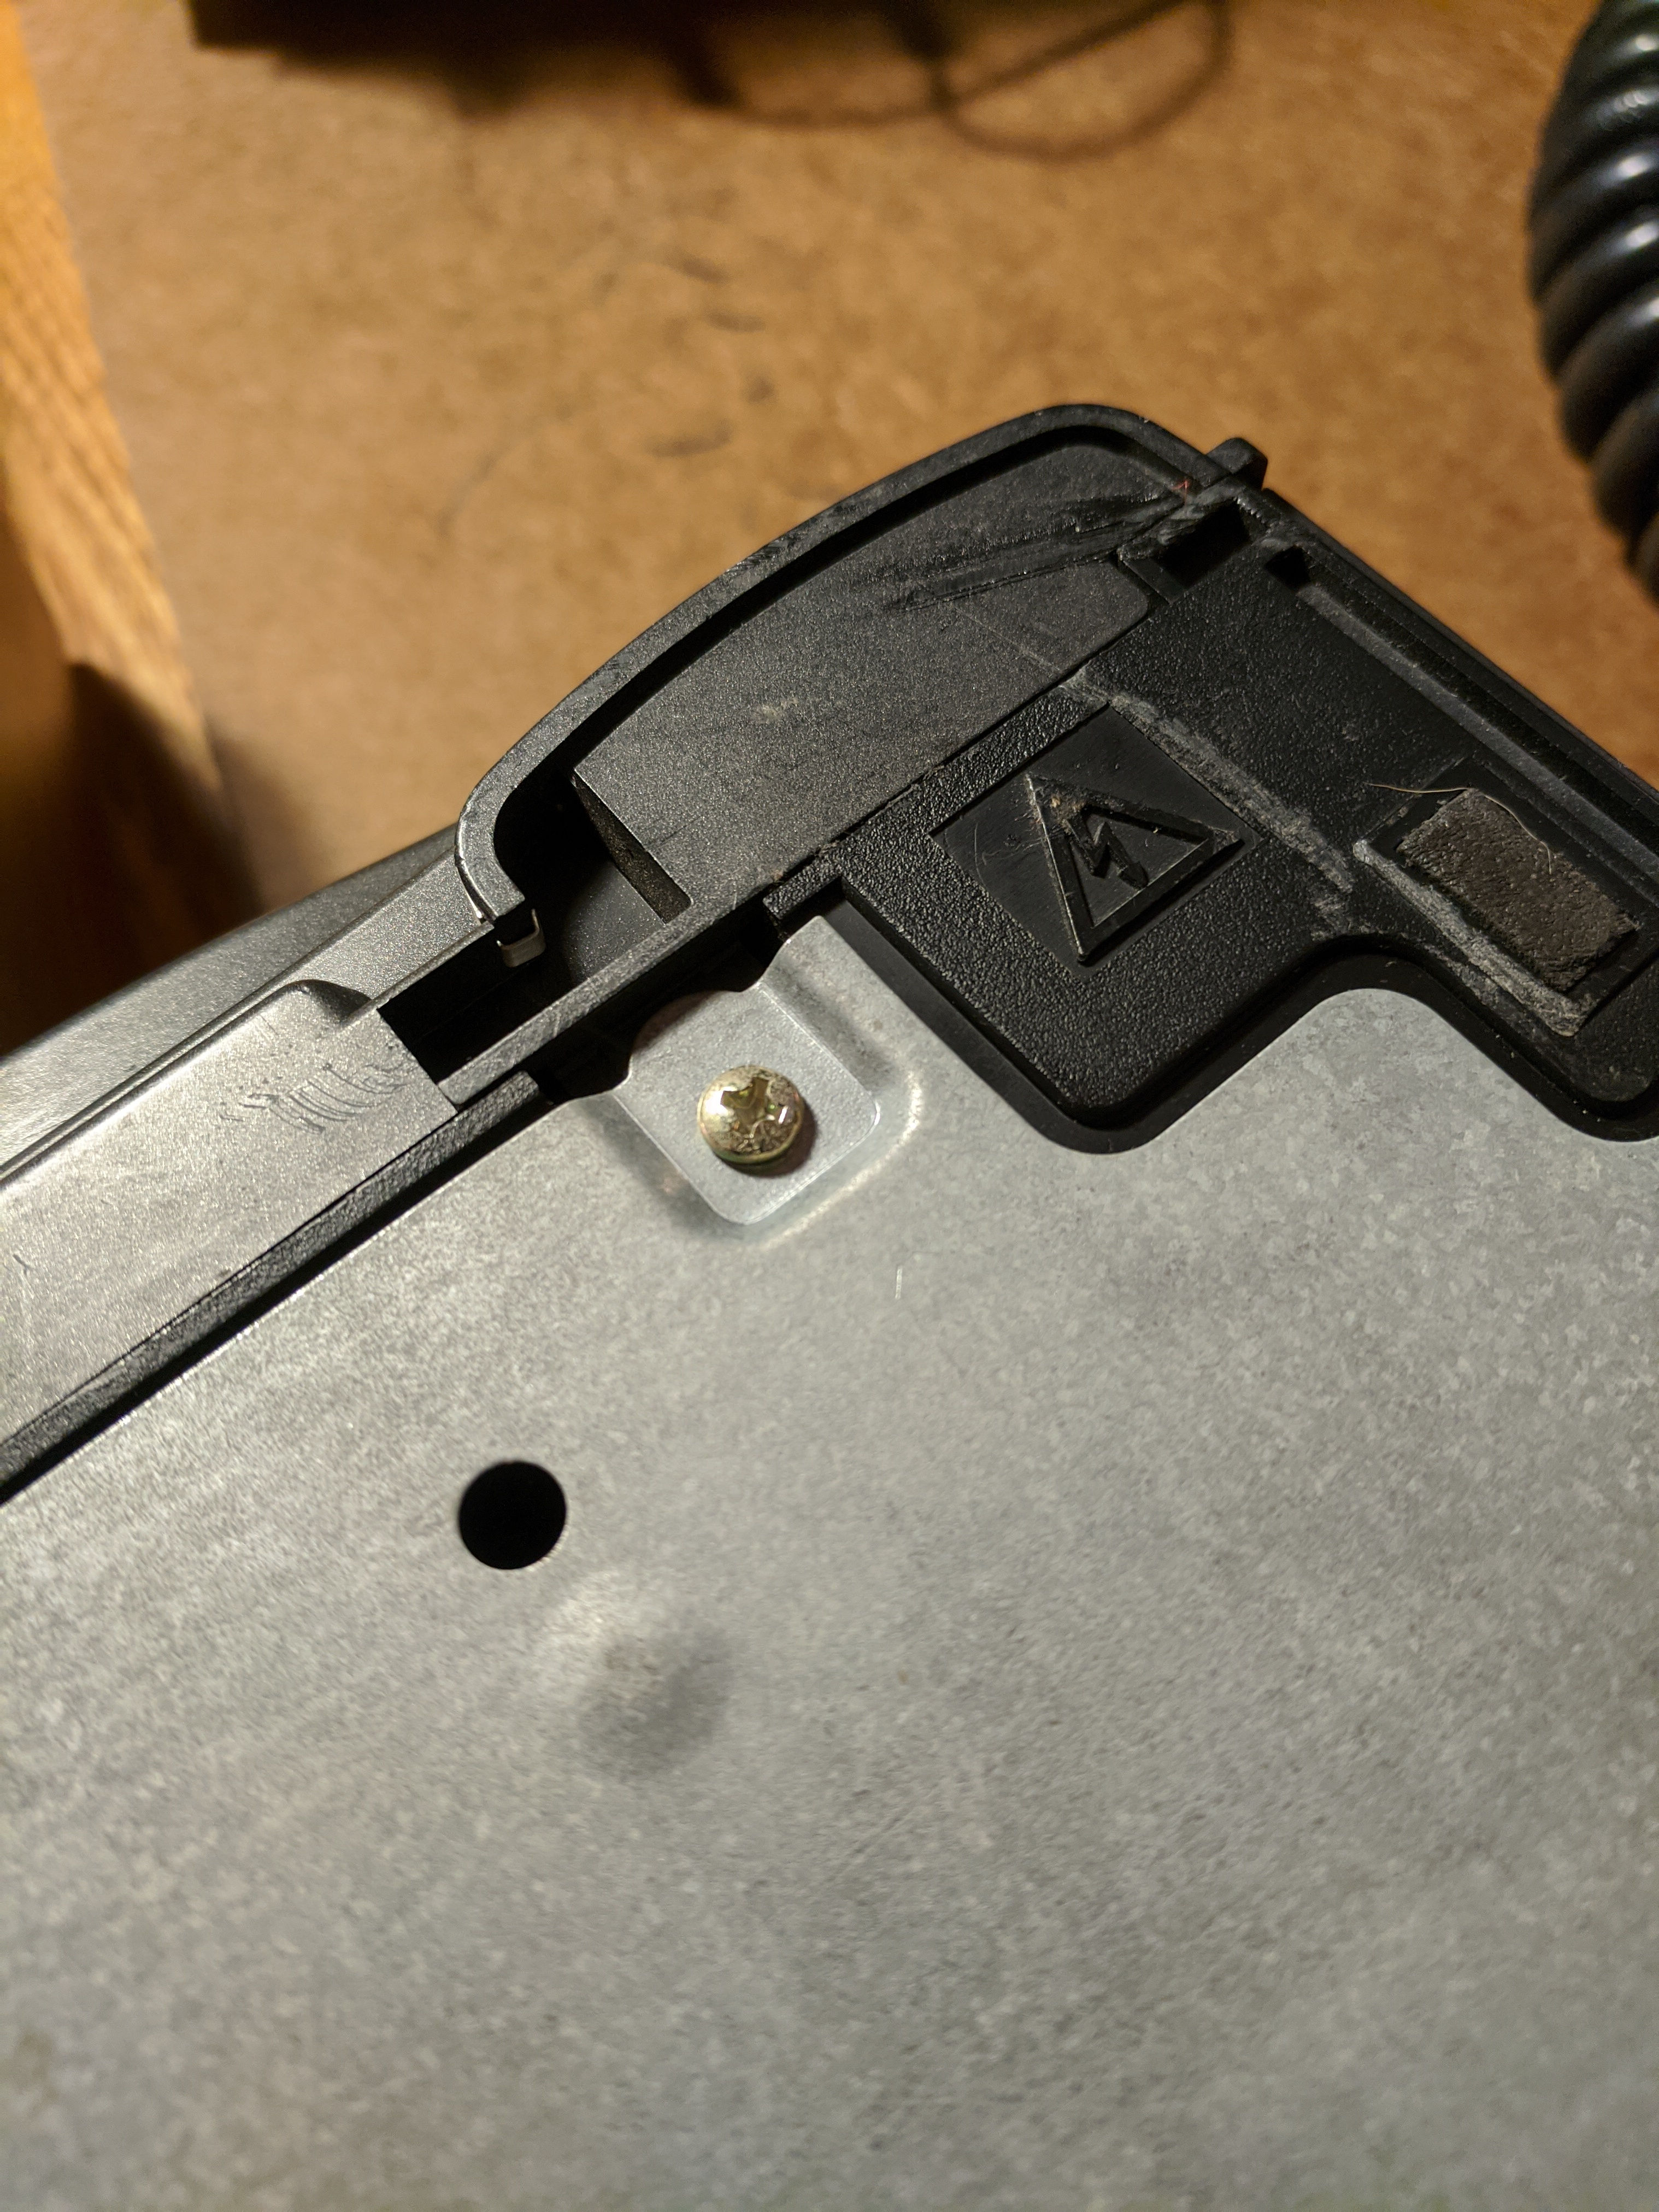cross_recessed_screw: (687, 1059, 807, 1170)
